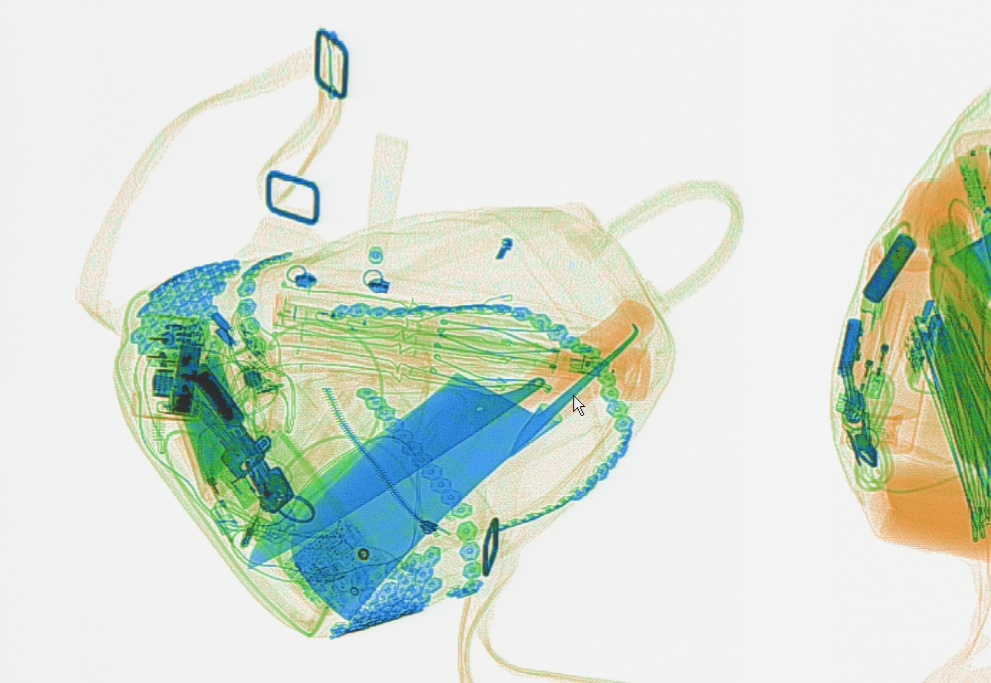knife: (293, 289, 651, 626), (245, 285, 650, 568)
lighter: (850, 279, 895, 389), (197, 451, 248, 538), (822, 312, 866, 403)
